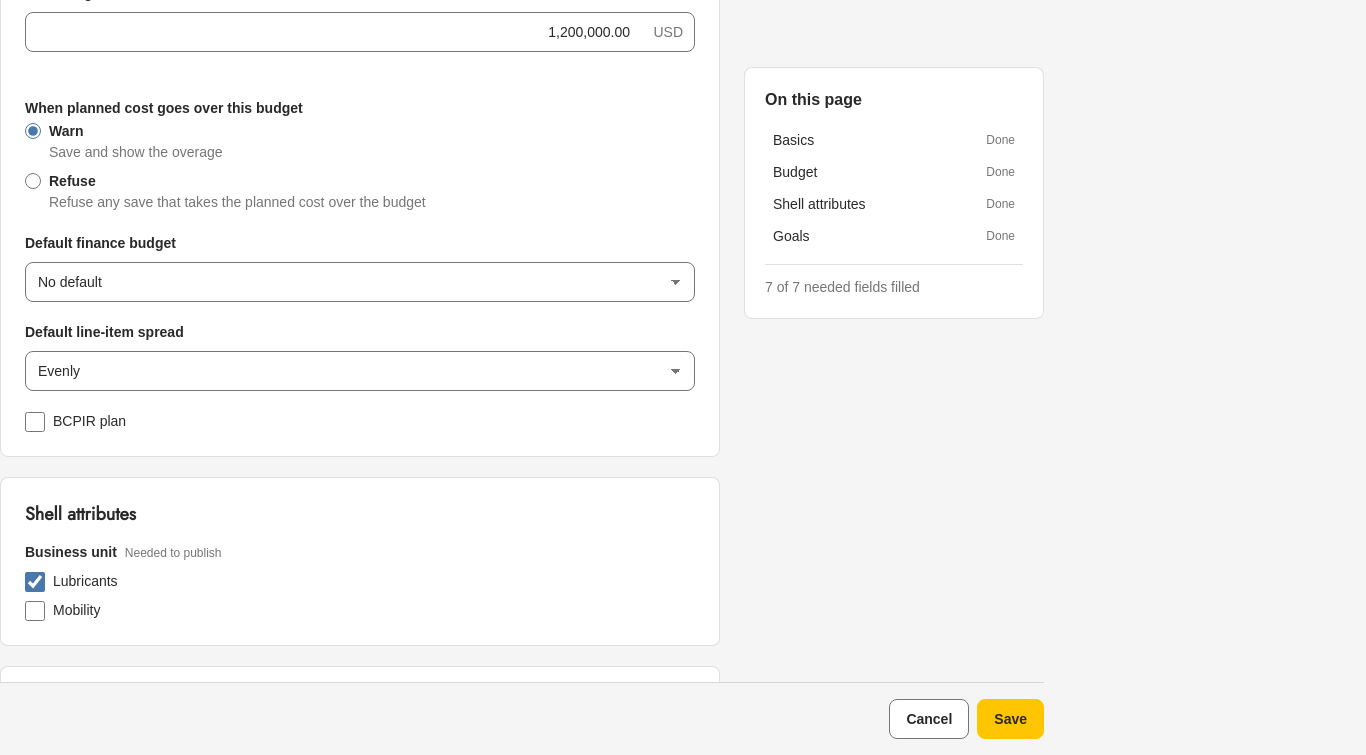
Test: PlanEditPage (US4, FR-018 – FR-023) › says a published plan stays published and when changed defaults apply (US4#5, FR-022)
This screenshot has width=1366, height=755.
(page scrolled)
Select "All in last month" in the dropdown labelled "Default line-item spread" at (360, 371), box [25,351,695,391]
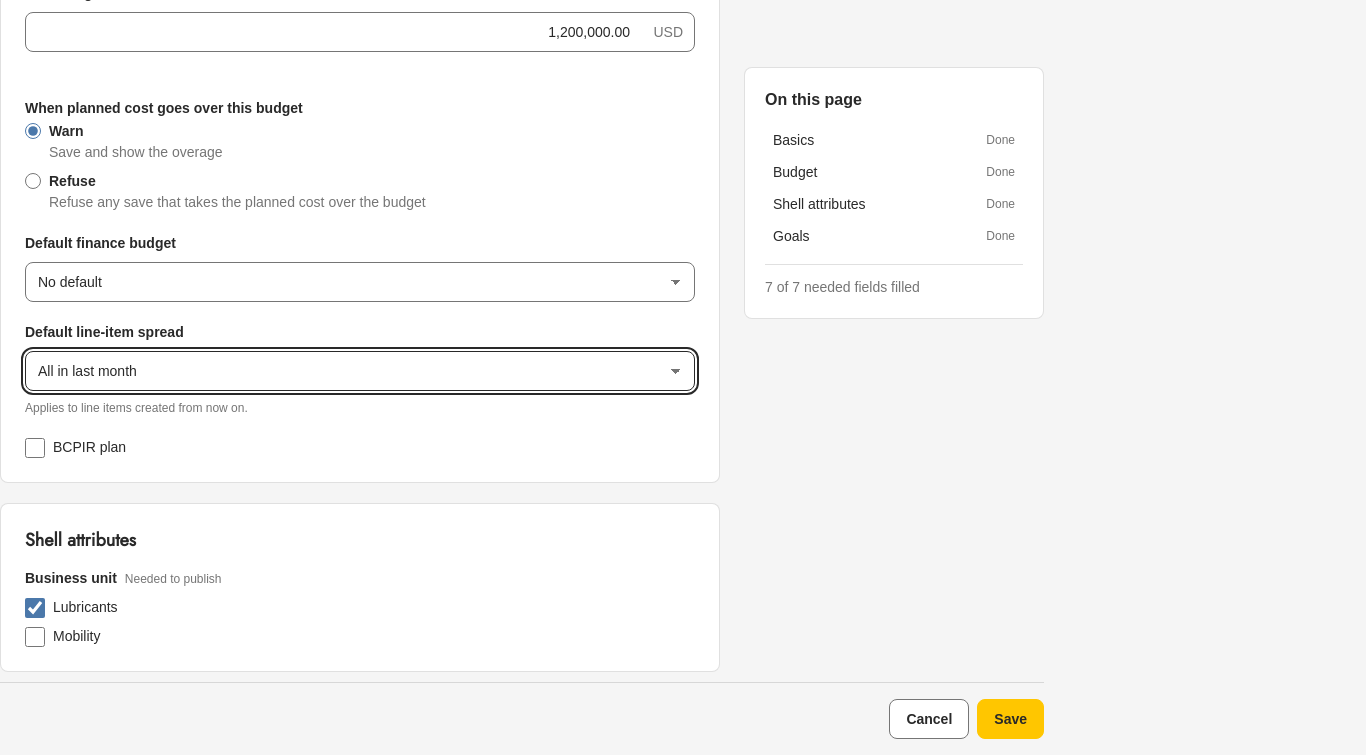
Check: the text "Applies to line items created from now on." is shown, box [25,401,248,415]
